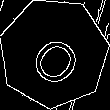O_NE: (21, 20, 87, 86)
